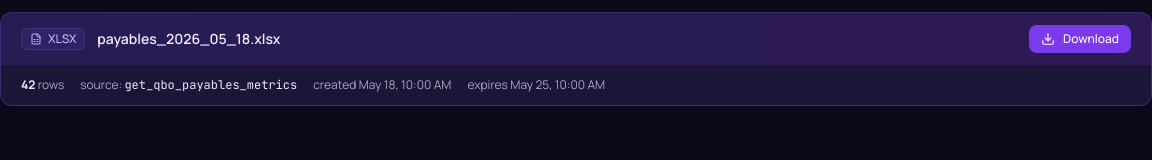
Scenario: FinanceExportArtifact error envelopes › 404 shows the no longer exists message
Click the button with test id "finance-export-download".
click(1080, 39)  # box left=1029, top=25, right=1131, bottom=53
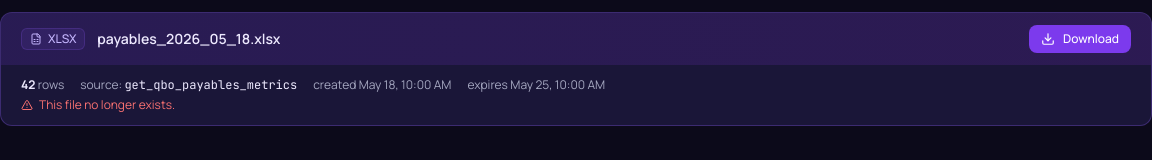
Result: the element with test id "finance-export-error" is shown at left=21, top=96, right=175, bottom=113
Result: the element with test id "finance-export-error" reads "This file no longer exists." at left=39, top=96, right=175, bottom=113
